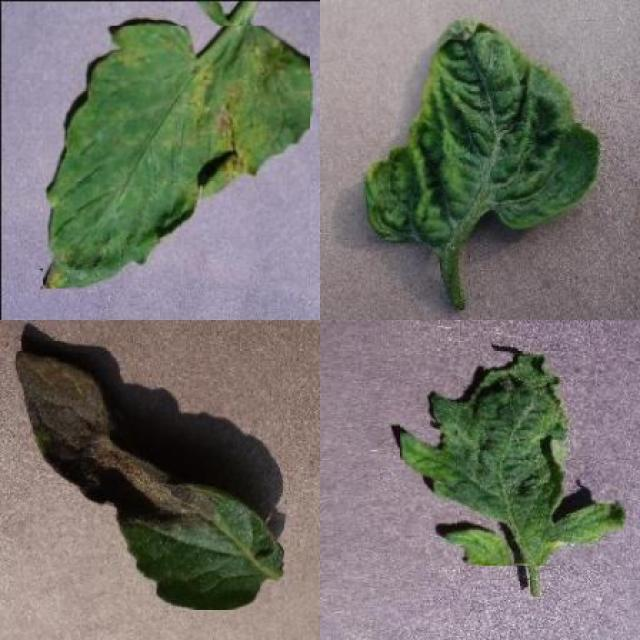Late Blight: (16, 350, 284, 610)
Mosaic Virus: (400, 354, 626, 566)
Septoria: (43, 25, 310, 288)
Yellow Leaf Curl Virus: (366, 17, 600, 243)
